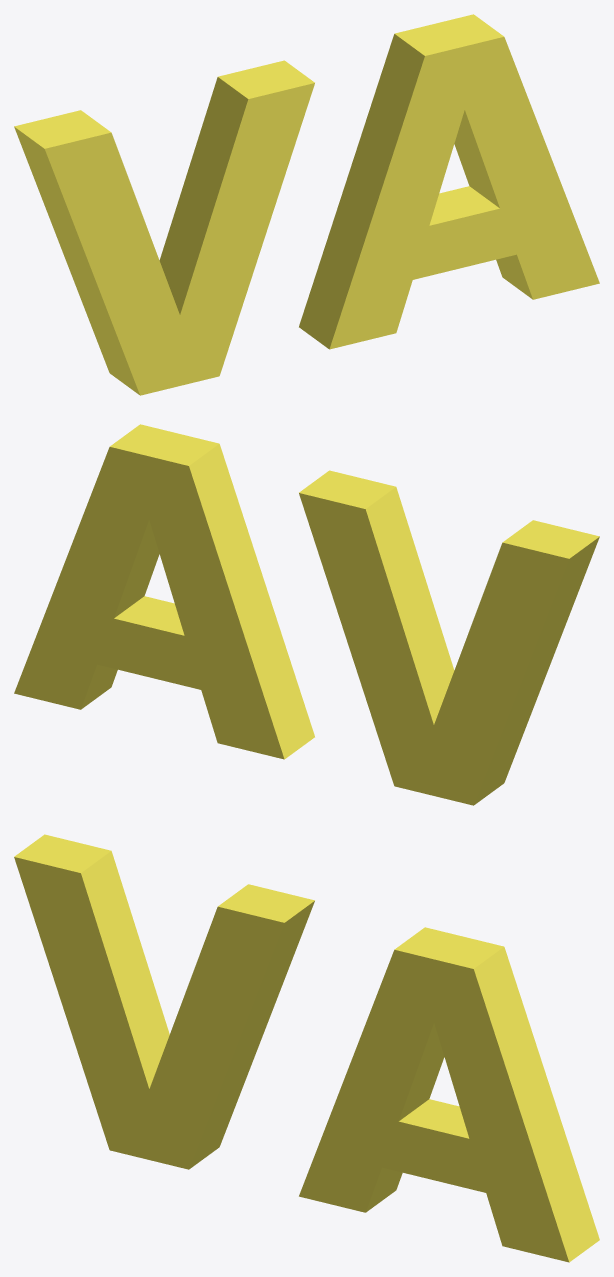
Rendered from suku_besar_va.glb.
3 views of the same model, one above another, from view 1: azimuth 30°, elevation 25°; view 2: azimuth 150°, elevation 25°; view 3: azimuth 330°, elevation 25° (orthographic).
Visible parts, largest first — view 1: geometry_0; view 2: geometry_0; view 3: geometry_0.
Part boxes in pixels (x1,y1,x2,y2): geometry_0: [14, 14, 599, 395]; geometry_0: [14, 424, 599, 805]; geometry_0: [14, 834, 599, 1262].
Size of the model in its own units: 15.68 by 7.29 by 1.5.
